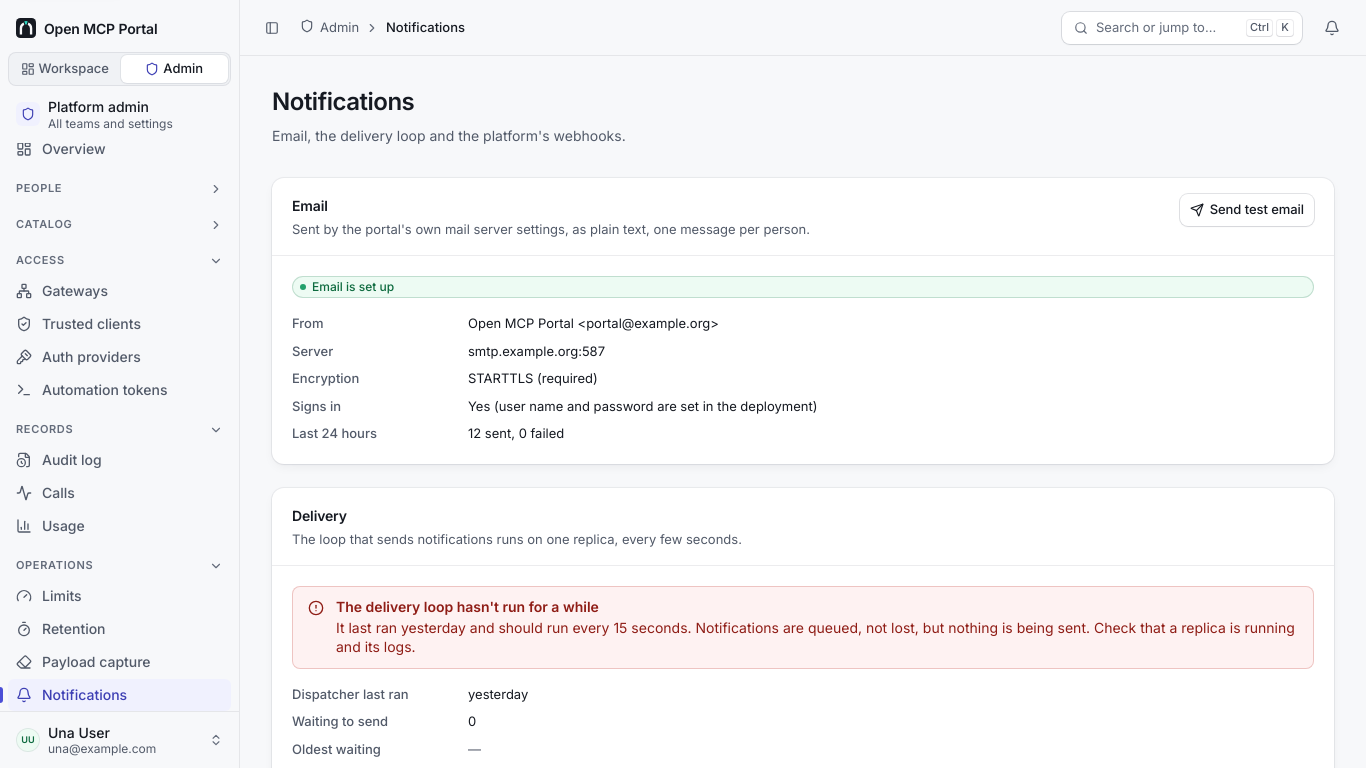
Scenario: Admin › Notifications › sends a test email to the admin's own address and shows the result, or why it failed
(page scrolled)
What coordinates should you click on to do the following:
click the button "Send test email"
I would click on:
 (1247, 210)
Its box is [1180,194,1314,226].
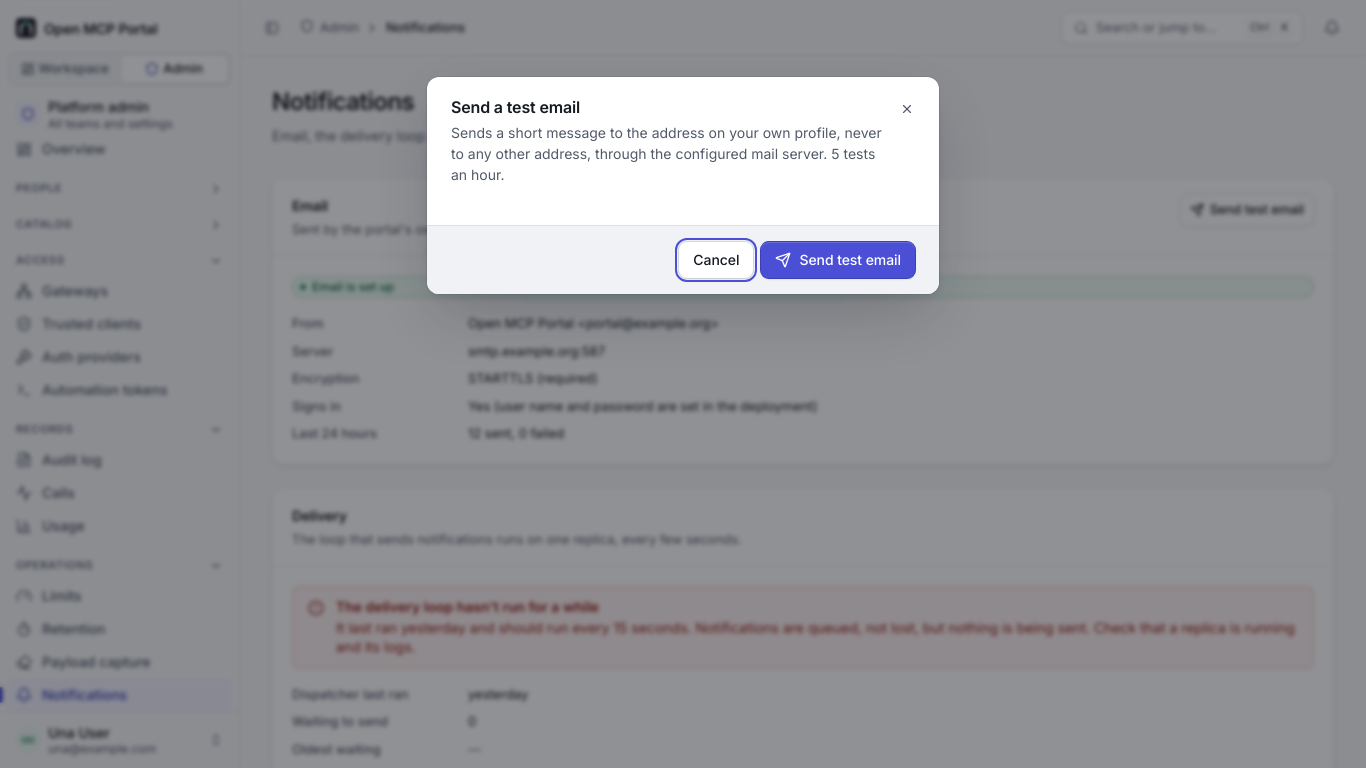
What coordinates should you click on to do the following:
click the button "Send test email"
I would click on:
 (838, 260)
Its box is [761,242,915,278].
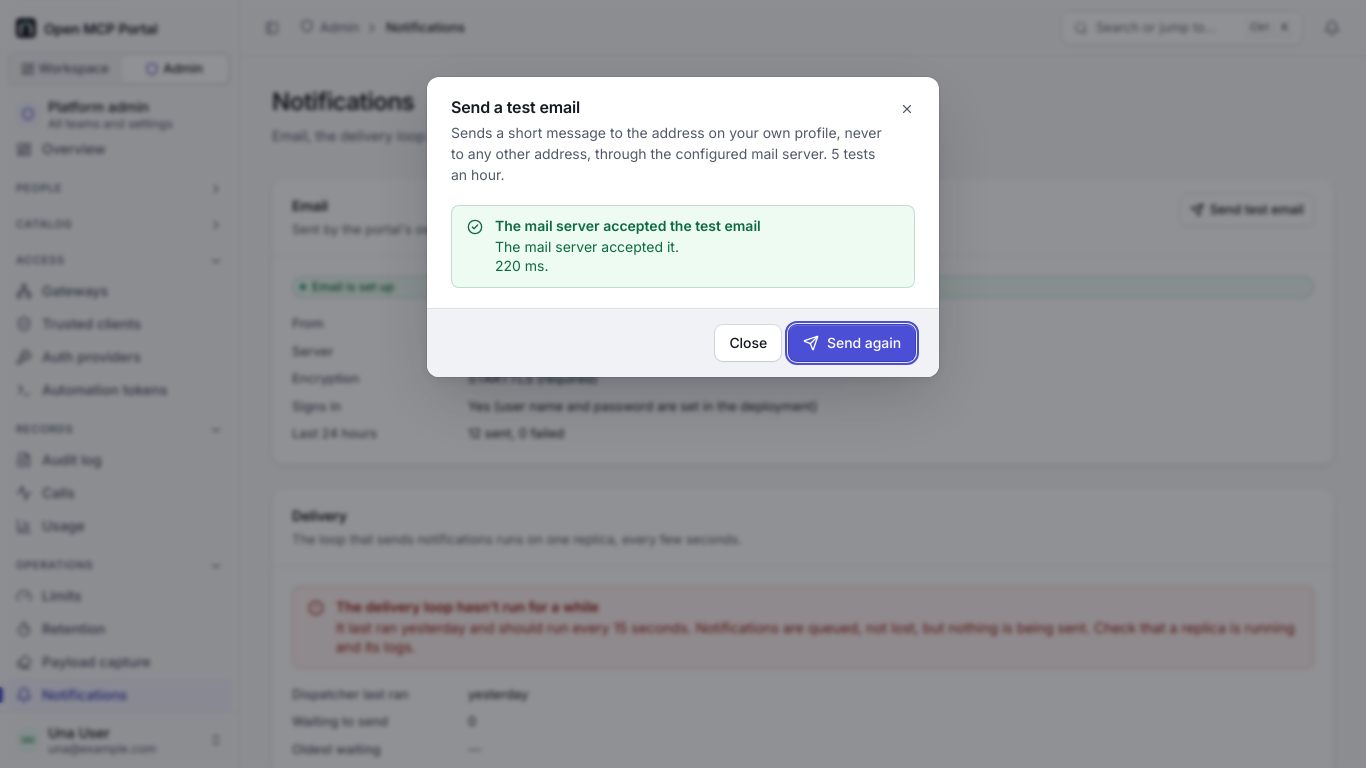
Expected: the text "The mail server accepted the test email" is shown, [495,217,761,234]
What coordinates should you click on to do the following:
click the button "Send again"
I would click on:
 (852, 343)
Its box is [789,325,915,361].
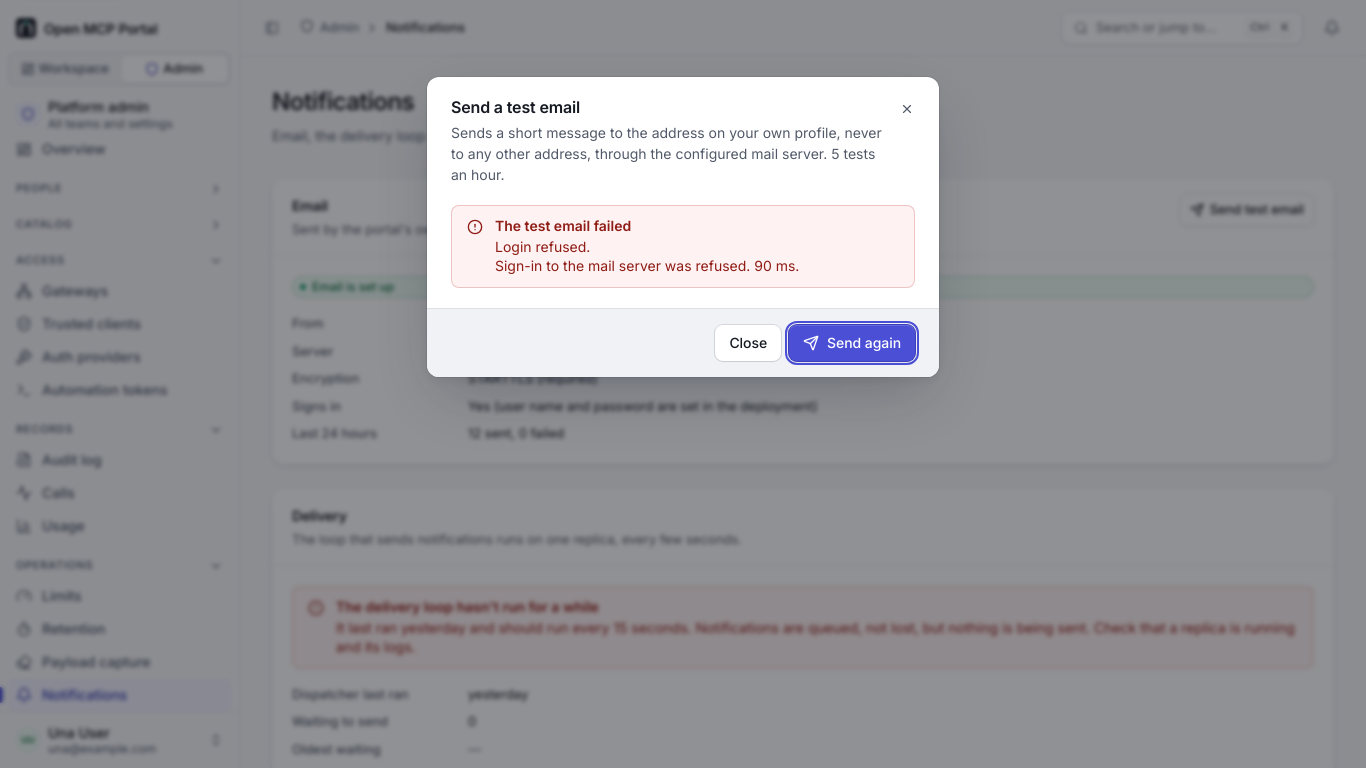
Expected: the text "The test email failed" is shown, [495,217,631,234]
Expected: the text "Sign-in to the mail server was refused. 90 ms." is shown, [495,257,799,274]
What coordinates should you click on to do the following:
click the button "Send again"
I would click on:
 (852, 343)
Its box is [789,325,915,361].
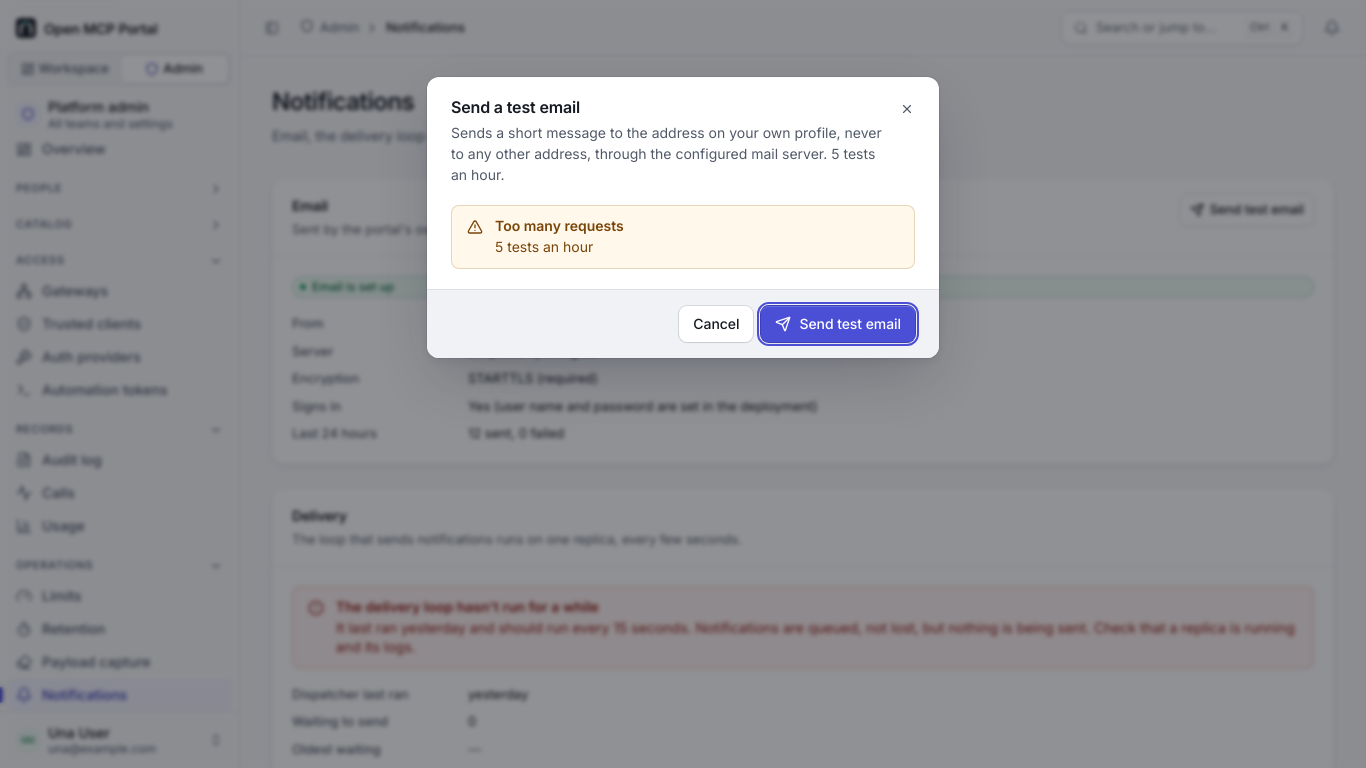
Expected: the text "Too many requests" is shown, [495,217,624,234]
